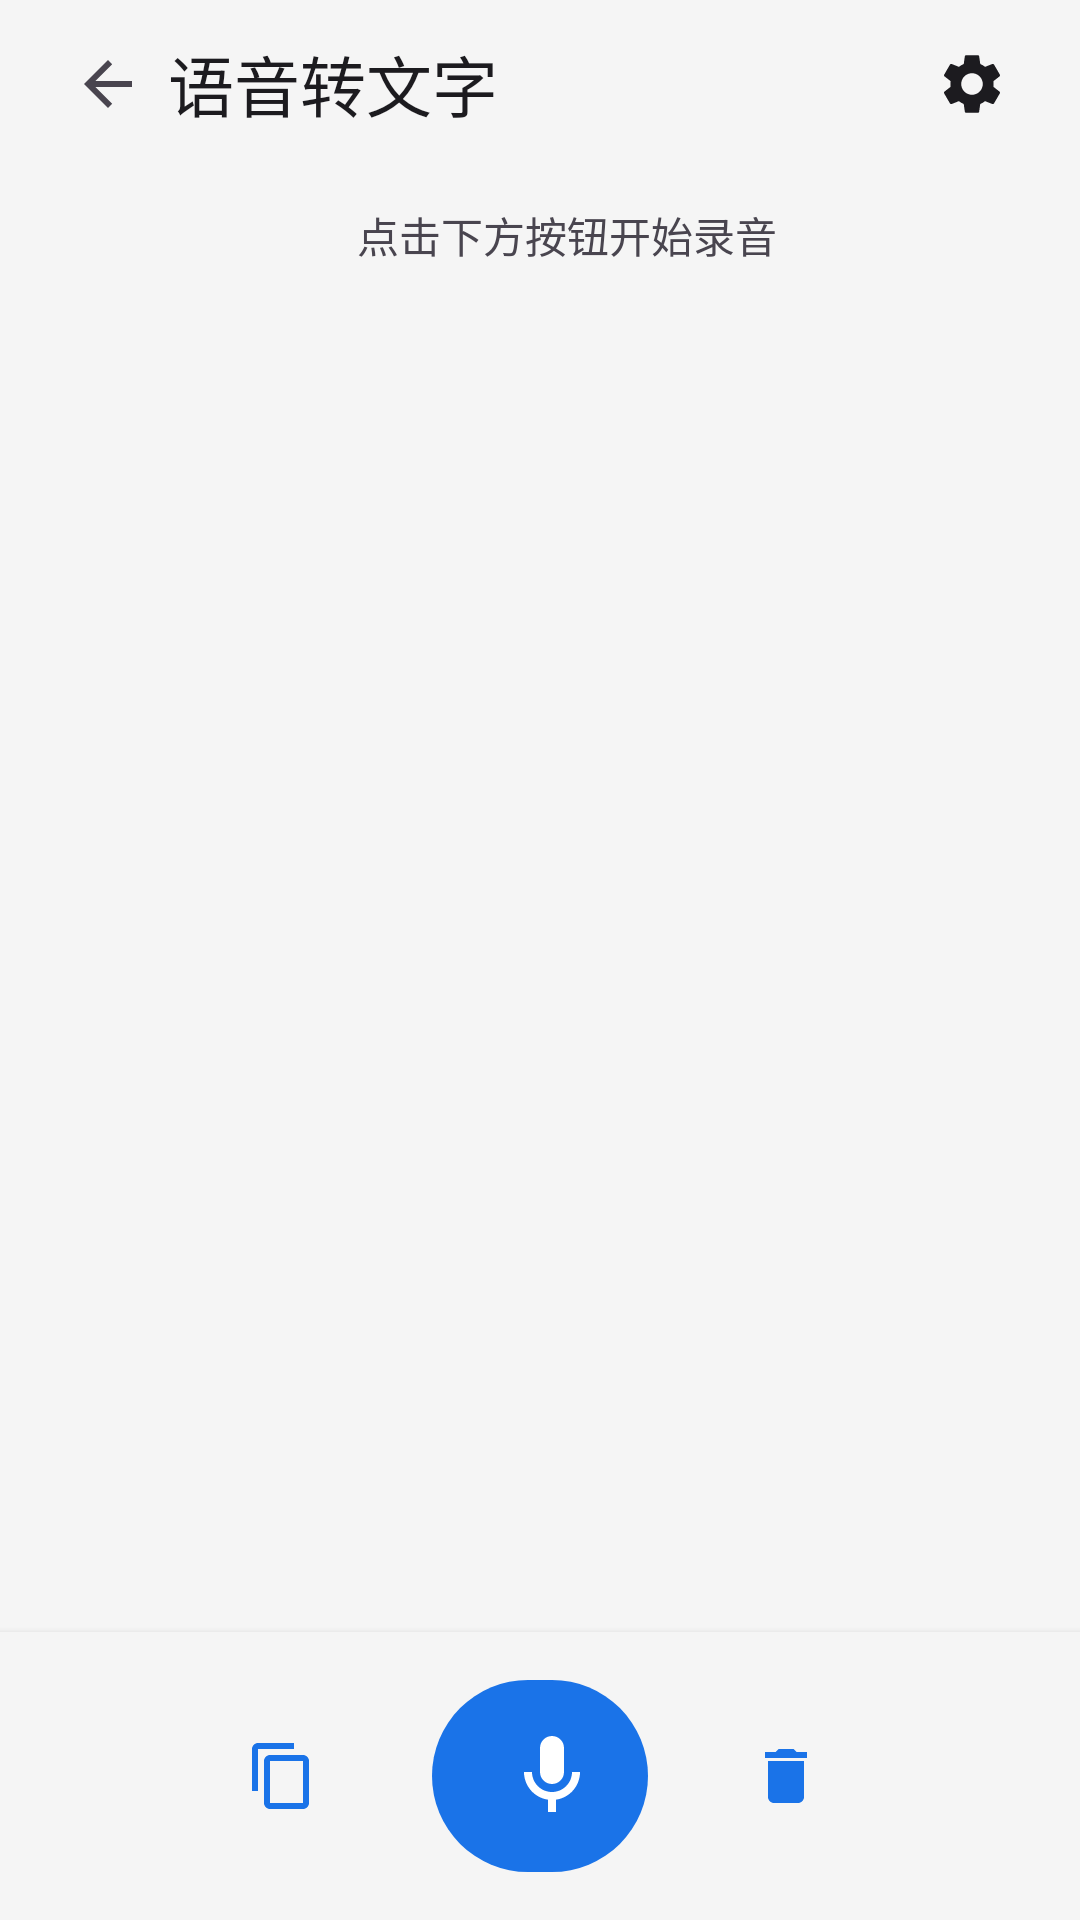

Icon click points for this 1080px x 1920px phone screenshot, format [x,y]:
mic: [540,1776]
复制: [280,1776]
清除: [786,1776]
设置: [972,84]
返回: [108,84]
